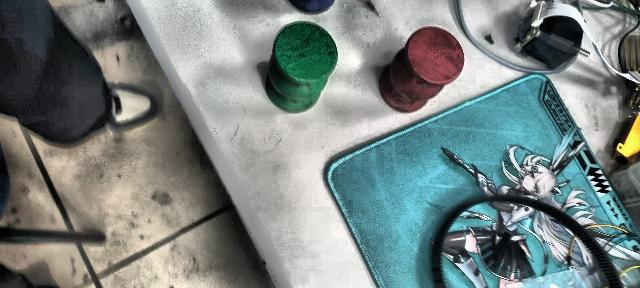green: (264, 20, 338, 112)
red: (369, 26, 468, 112)
